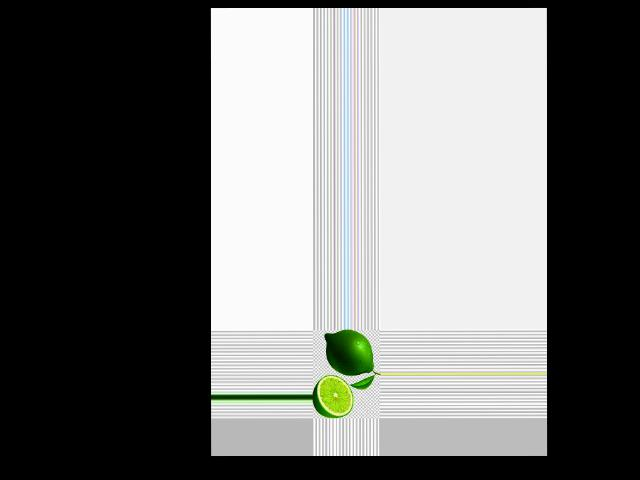lemon: (322, 330, 374, 382)
